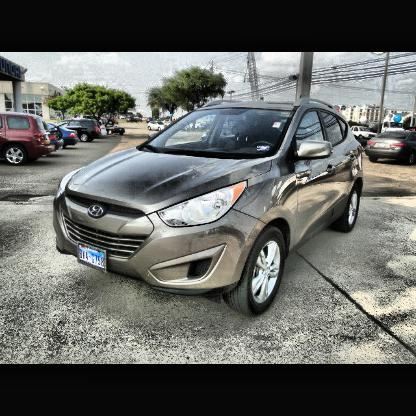Hyundai Tucson SUV 2012: (54, 101, 364, 318)
